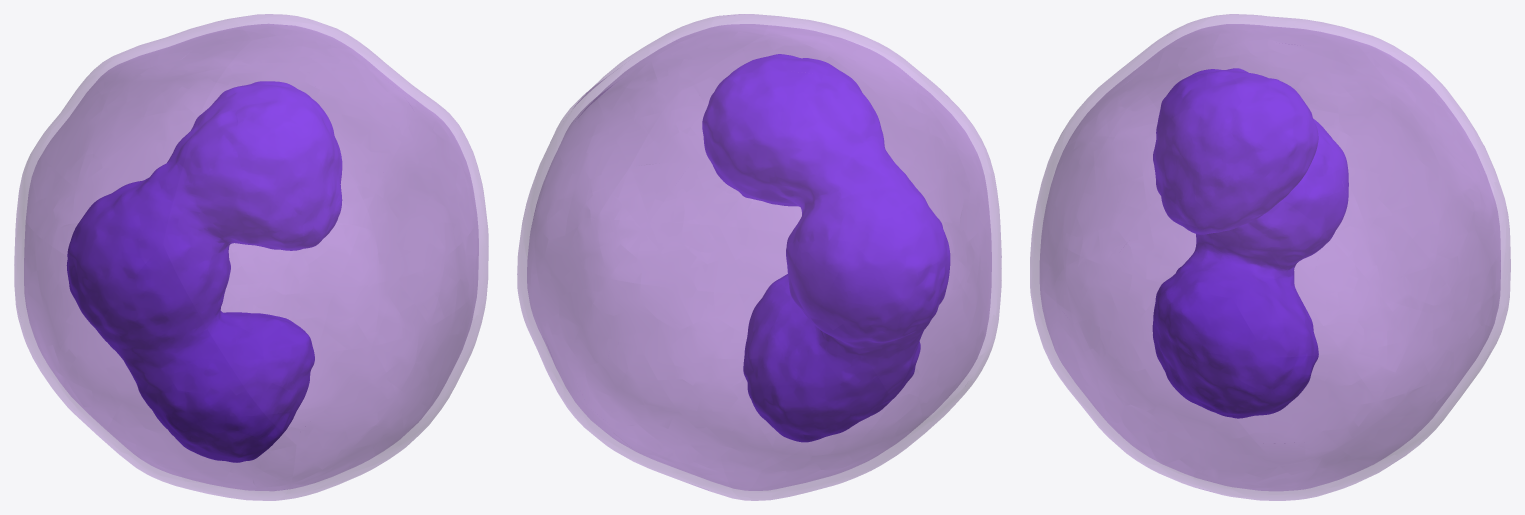
Rendered from white-cells.glb.
3 renders of one model, left to right at view 1: azimuth 30°, elevation 25°; view 2: azimuth 150°, elevation 25°; view 3: azimuth 270°, elevation 25°, orthographic.
Parts seen in each view (by area): view 1: udambu; view 2: udambu; view 3: udambu.
Boxes of the visible parts, x1,y1,x2,y2 form: udambu: (14,14,488,500); udambu: (517,14,1001,500); udambu: (1030,14,1510,500).
Size of the model in its own units: 0.4933 by 0.5 by 0.4964.
